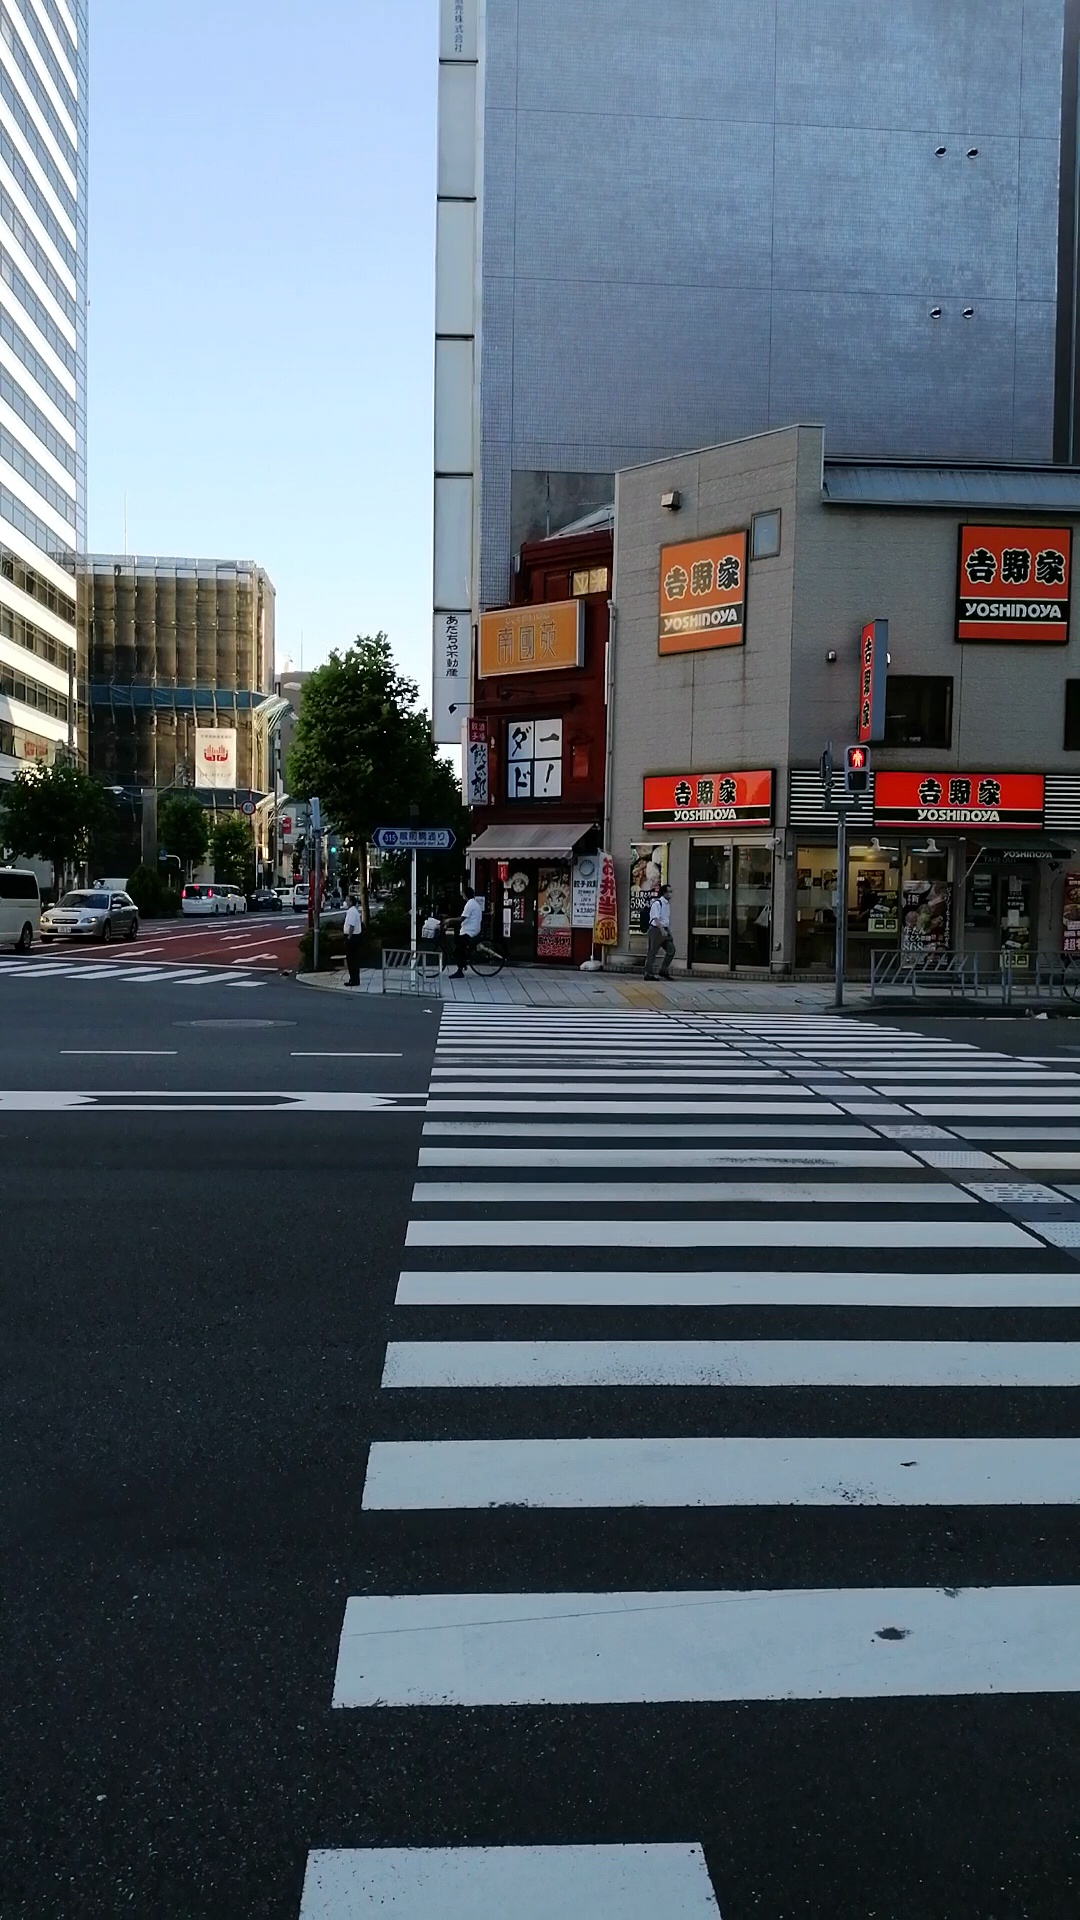red: (843, 744, 870, 796)
